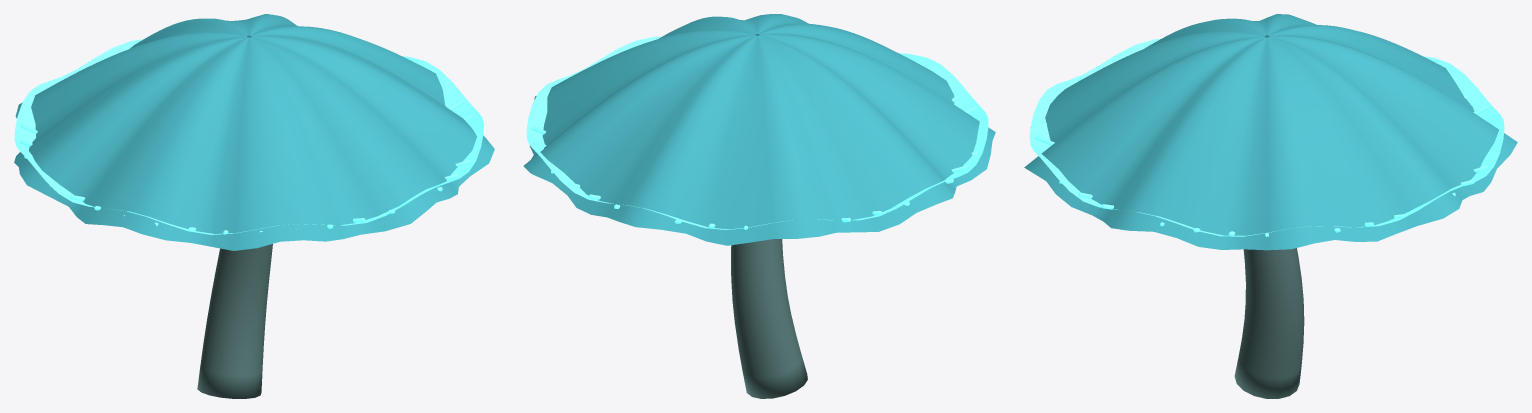
The model's file is glow_mushroom.glb.
3 renders of one model, left to right at view 1: azimuth 30°, elevation 25°; view 2: azimuth 150°, elevation 25°; view 3: azimuth 270°, elevation 25°, orthographic. The views are drawn at different scales.
Visible parts, largest first — view 1: Cap, Stem, Gills; view 2: Cap, Stem, Gills; view 3: Cap, Stem, Gills.
Boxes of the visible parts, x1,y1,x2,y2 form: Cap: (14,14,494,250); Stem: (197,244,272,398); Gills: (14,39,483,234); Cap: (523,14,995,245); Stem: (731,239,807,398); Gills: (526,36,988,229); Cap: (1024,14,1517,250); Stem: (1234,248,1304,398); Gills: (1029,39,1504,236).
Bounding box in the file's own units: 2.57 × 2.06 × 2.56.
